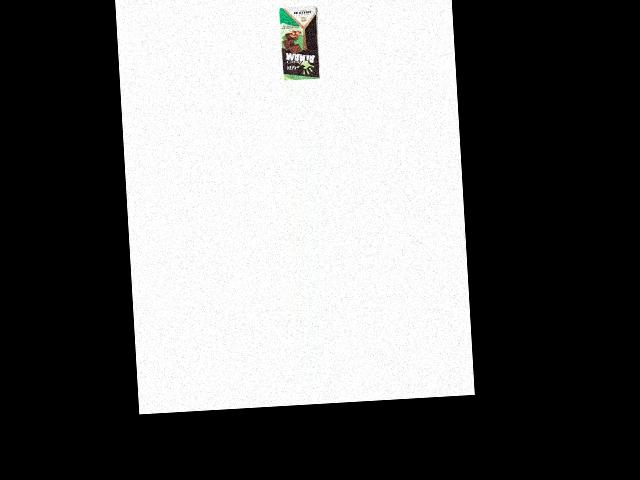chocolate: (277, 4, 322, 82)
